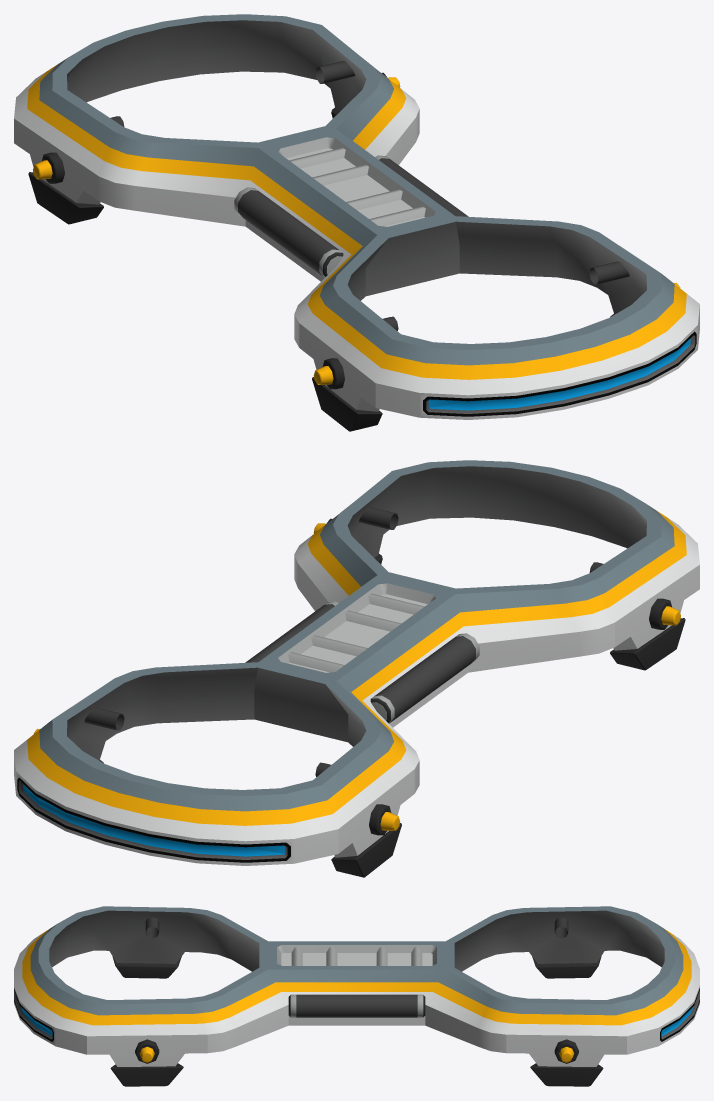
The model's file is Cargo_drone_004.fbx.
3 views of the same model, one above another, from view 1: azimuth 30°, elevation 25°; view 2: azimuth 150°, elevation 25°; view 3: azimuth 270°, elevation 25° (orthographic). The views are drawn at different scales.
Visible parts, largest first — view 1: Cargo_drone_004; view 2: Cargo_drone_004; view 3: Cargo_drone_004.
Part boxes in pixels (box(x1,y1,x2,y2)): Cargo_drone_004: box(14, 14, 699, 431); Cargo_drone_004: box(14, 460, 699, 877); Cargo_drone_004: box(14, 906, 699, 1086).
Size of the model in its own units: 225 by 495 by 57.36.
